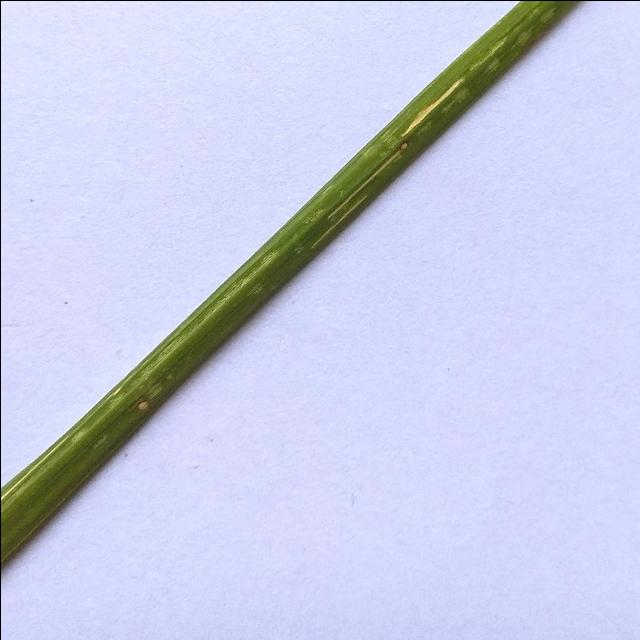Leaf blast: (0, 0, 640, 622)
